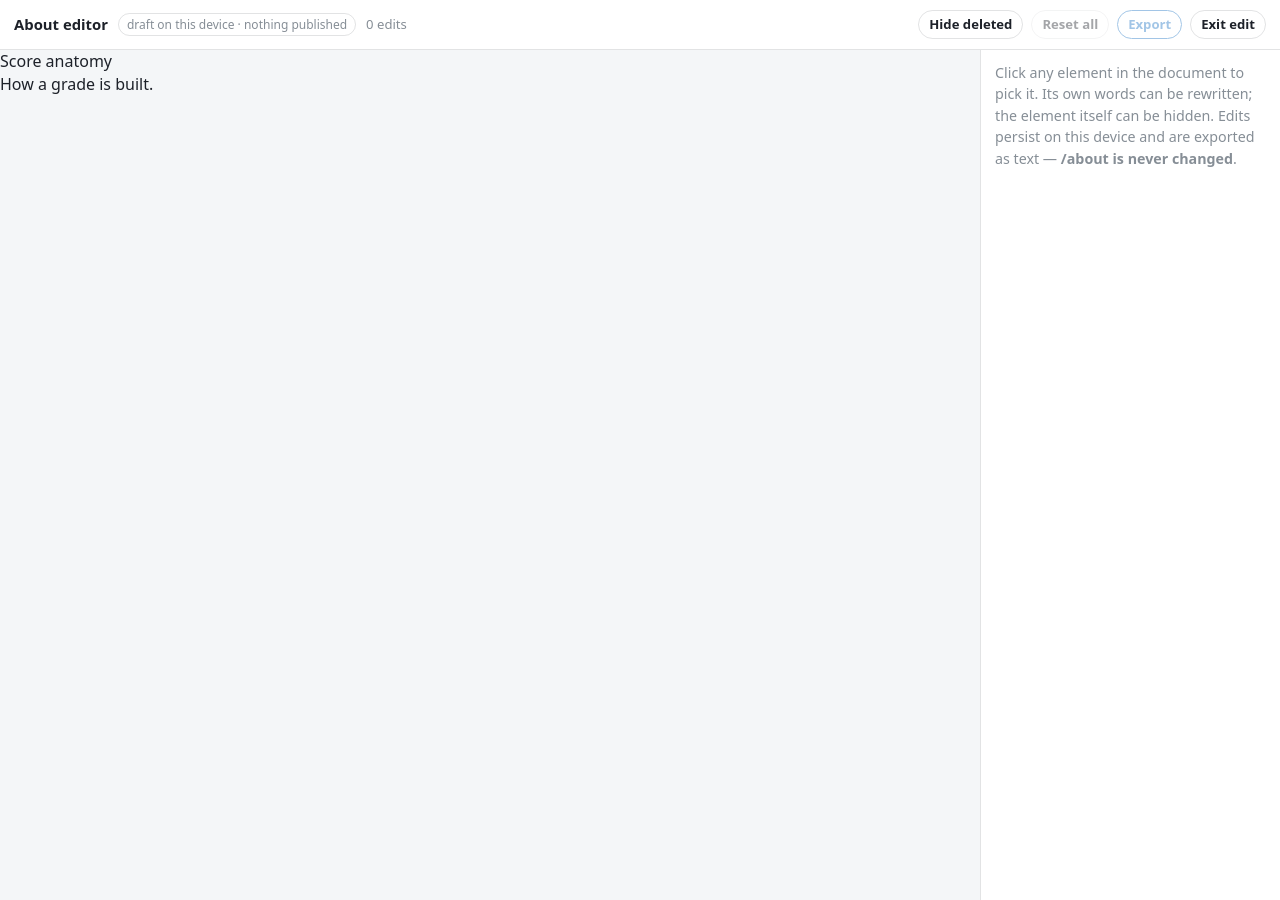
it: a picked element is addressed from the document root — the path has no leading 0/
This screenshot has width=1280, height=900.
What coordinates should you click on to do the following:
click the text "How a grade is built."
I would click on:
 (77, 84)
Its box is [0,73,153,95].
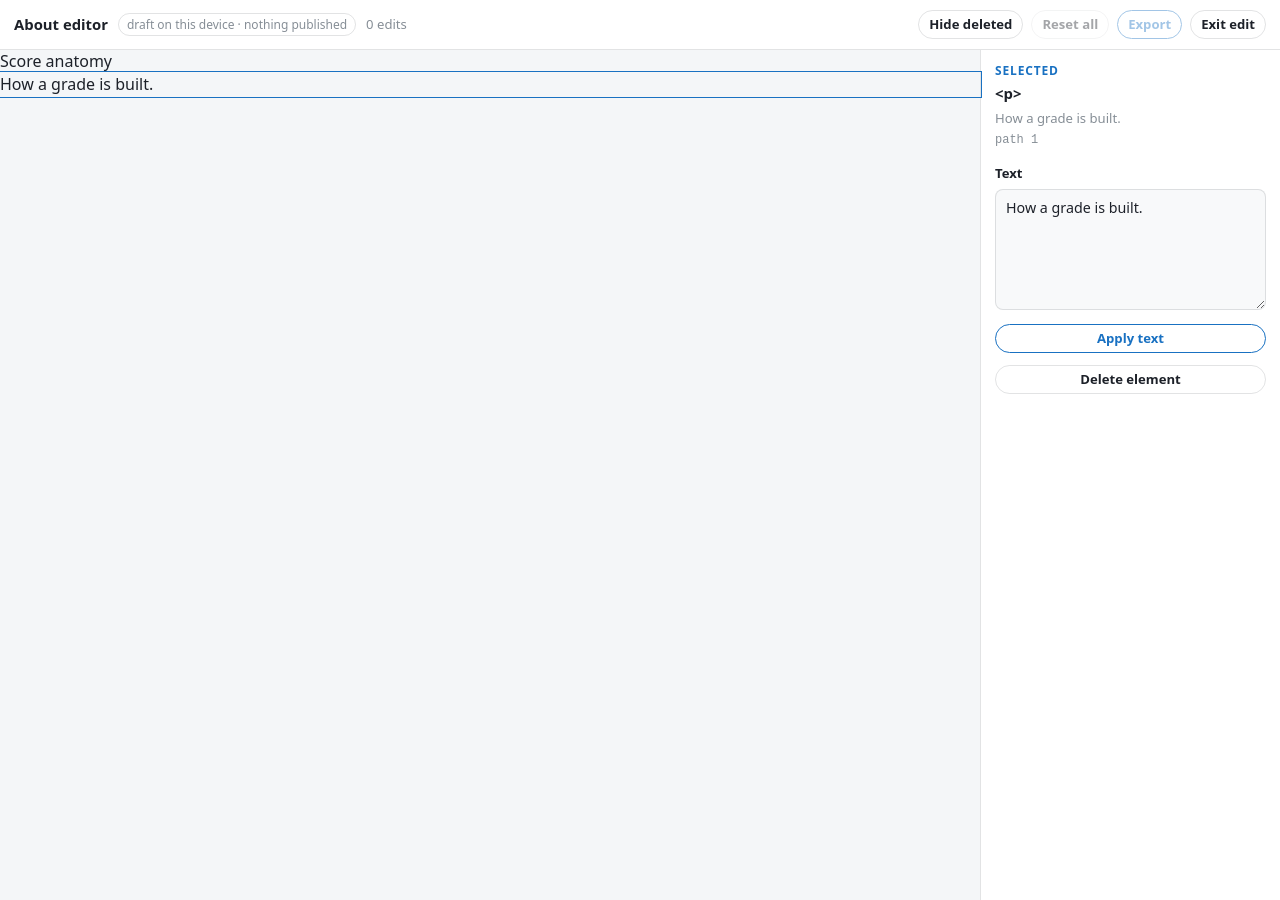
Expected: the element that starts with "Selected" shows "path 1", [980,50,1279,899]
